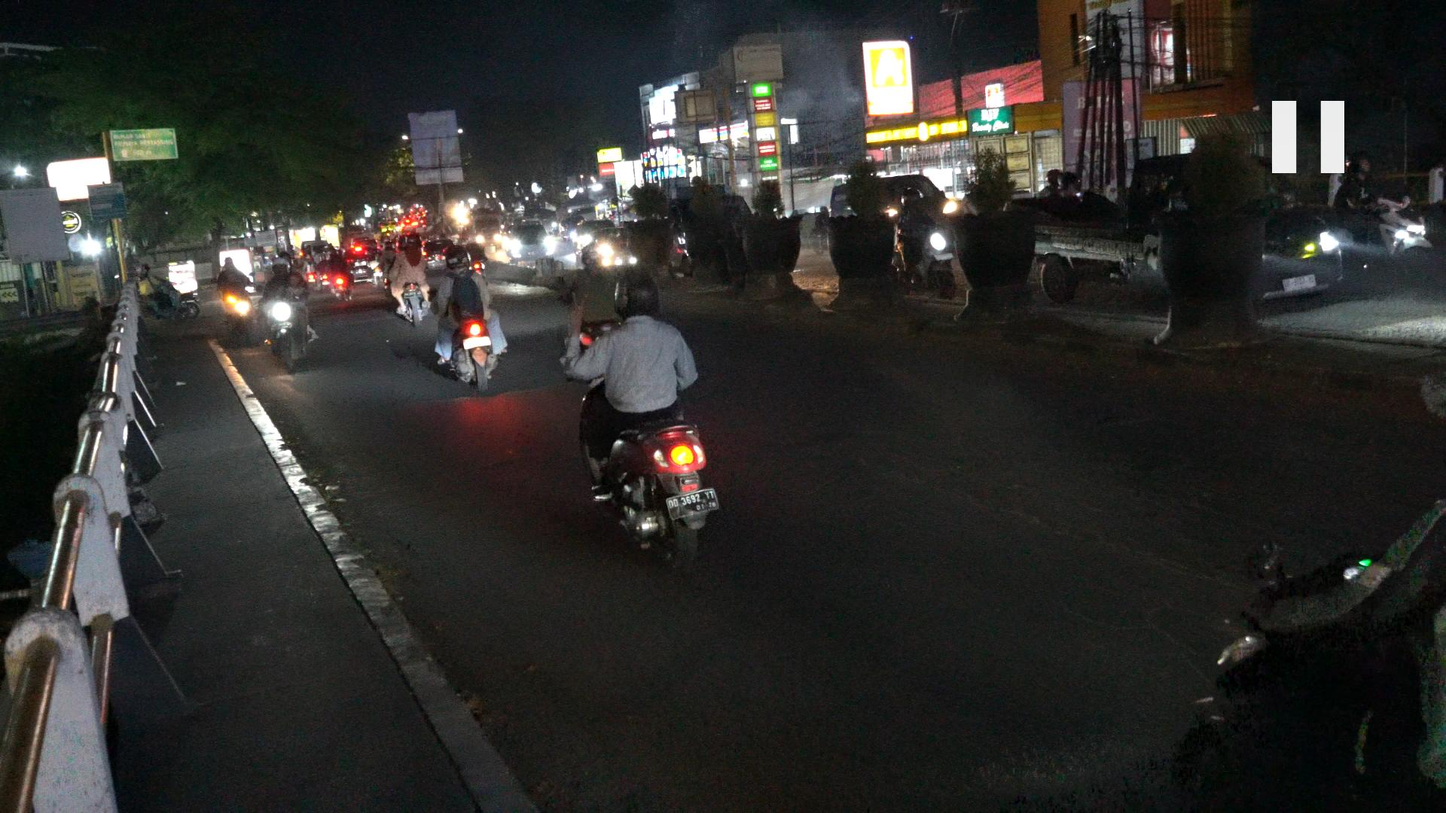number-plate: (658, 492, 729, 519)
